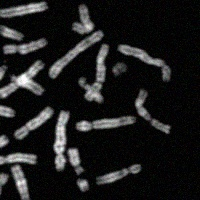chromosome: (49, 30, 103, 78), (119, 44, 170, 81), (0, 59, 44, 98), (135, 88, 170, 133), (14, 106, 54, 139), (85, 44, 108, 100), (95, 163, 140, 184), (0, 1, 48, 20), (76, 116, 135, 130), (3, 38, 47, 54), (10, 163, 29, 200), (78, 77, 103, 103), (11, 75, 42, 94), (72, 4, 92, 33), (0, 152, 37, 165), (54, 110, 68, 143), (0, 22, 22, 41), (69, 148, 84, 174), (54, 139, 66, 170), (113, 63, 127, 77), (0, 103, 14, 117), (76, 178, 89, 191), (0, 173, 6, 200), (0, 64, 5, 91), (0, 135, 7, 150)
